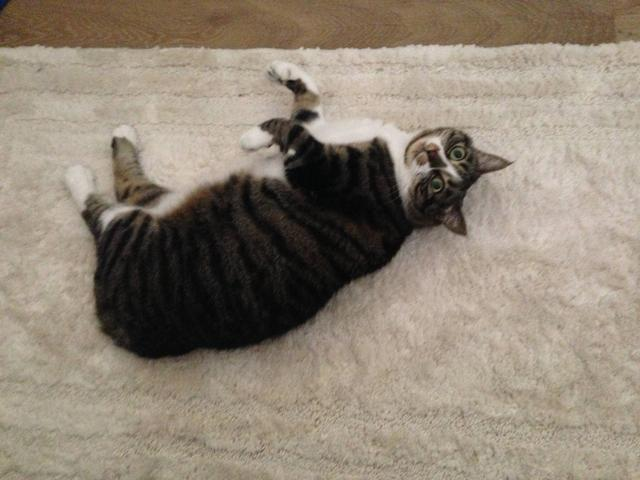playdoh: (60, 58, 512, 363)
